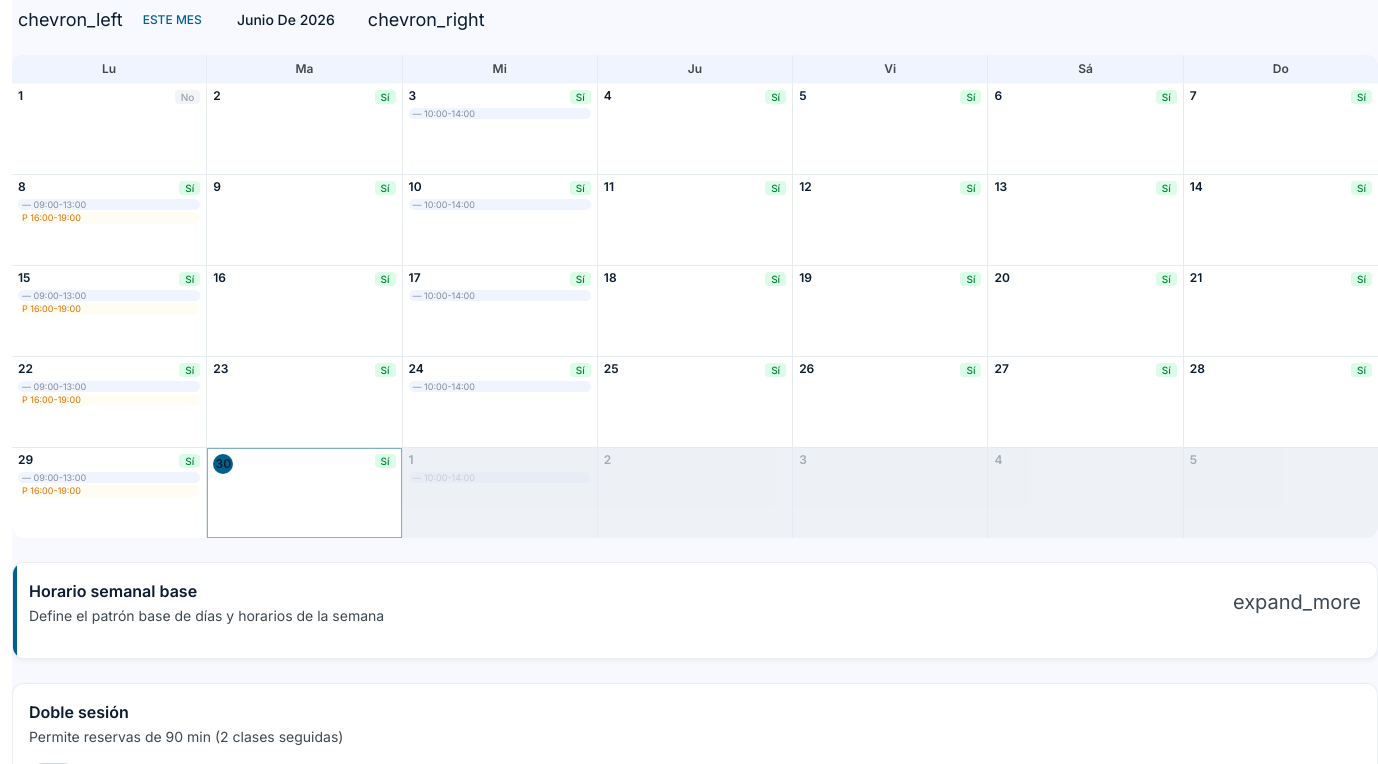
Scenario: TeacherSchedule › renders day blocks from loaded data after expanding weekly template
The width and height of the screenshot is (1378, 764).
Step 1. Click the heading "Horario semanal base" → (113, 591), box [29,581,197,601]
(page scrolled)
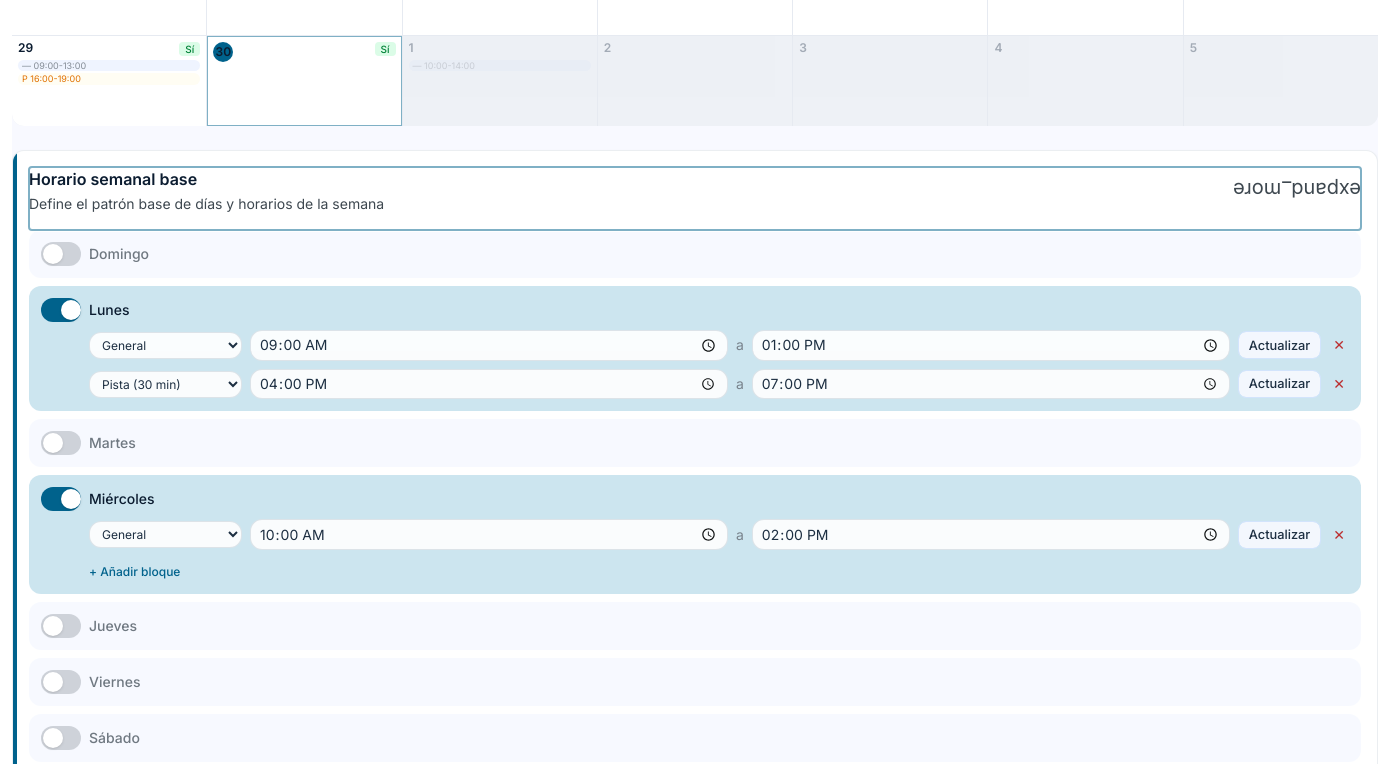
Now the 1st time field showing "09:00" is shown, box [250,330,728,361]
Now the 2nd time field showing "13:00" is shown, box [752,330,1230,361]
Now the 3rd time field showing "16:00" is shown, box [250,369,728,399]
